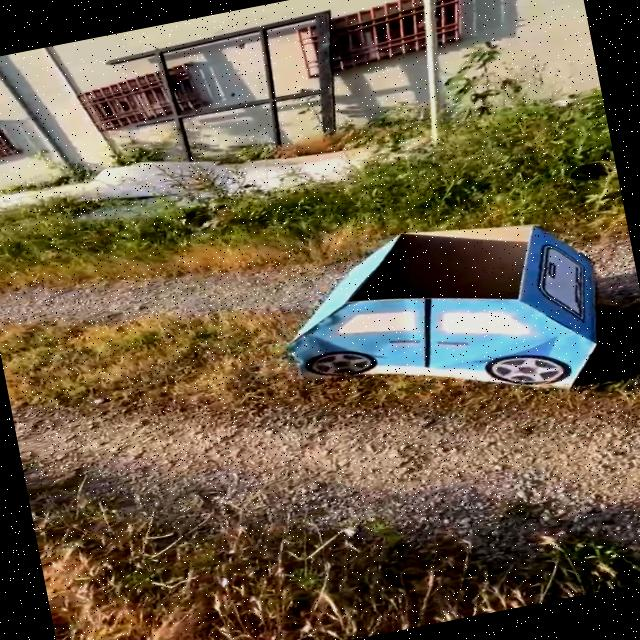blue_car: (254, 184, 640, 462)
